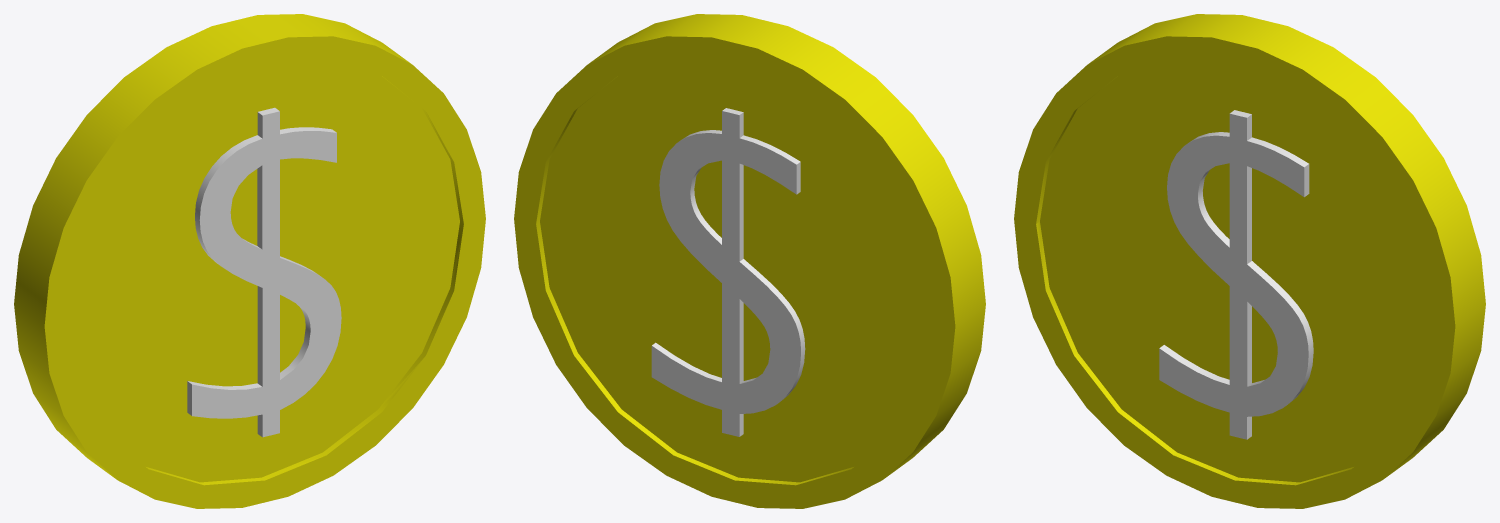
Rendered from Coin Export.fbx.
The picture shows the model from 3 angles, left to right: view 1: azimuth 30°, elevation 25°; view 2: azimuth 150°, elevation 25°; view 3: azimuth 330°, elevation 25°; orthographic projection.
Visible parts, largest first — view 1: pCylinder4, typeMesh1; view 2: pCylinder4, pasted__typeMesh1; view 3: pCylinder4, typeMesh1.
Part boxes in pixels (left/top/right/bottom): pCylinder4: left=14, top=14, right=485, bottom=508; typeMesh1: left=187, top=107, right=341, bottom=437; pCylinder4: left=514, top=14, right=985, bottom=508; pasted__typeMesh1: left=651, top=108, right=805, bottom=436; pCylinder4: left=1014, top=14, right=1485, bottom=508; typeMesh1: left=1159, top=110, right=1313, bottom=439.
Size of the model in its own units: 2 by 1.99 by 0.2509.
